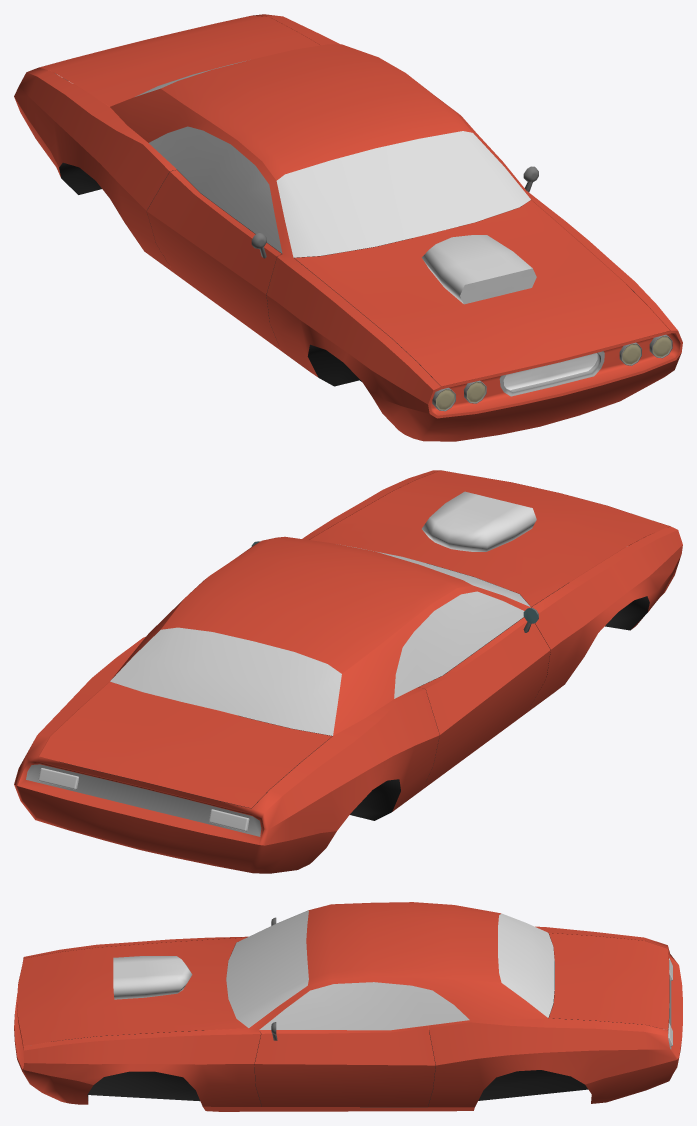
File: challenger.fbx
3 views of the same model, one above another, from view 1: azimuth 30°, elevation 25°; view 2: azimuth 150°, elevation 25°; view 3: azimuth 270°, elevation 25° (orthographic). The views are drawn at different scales.
Visible parts, largest first — view 1: body, windows, engine, lights; view 2: body, windows, engine; view 3: body, windows, engine.
Part boxes in pixels (x1=…): body: x1=14, y1=14, x2=682, y2=441; windows: x1=135, y1=60, x2=530, y2=257; engine: x1=421, y1=235, x2=536, y2=304; lights: x1=432, y1=334, x2=672, y2=411; body: x1=14, y1=470, x2=682, y2=873; windows: x1=110, y1=544, x2=530, y2=735; engine: x1=422, y1=491, x2=536, y2=551; body: x1=14, y1=902, x2=682, y2=1111; windows: x1=226, y1=910, x2=554, y2=1030; engine: x1=113, y1=956, x2=192, y2=999.
Size of the model in its own units: 198 by 112 by 491.
